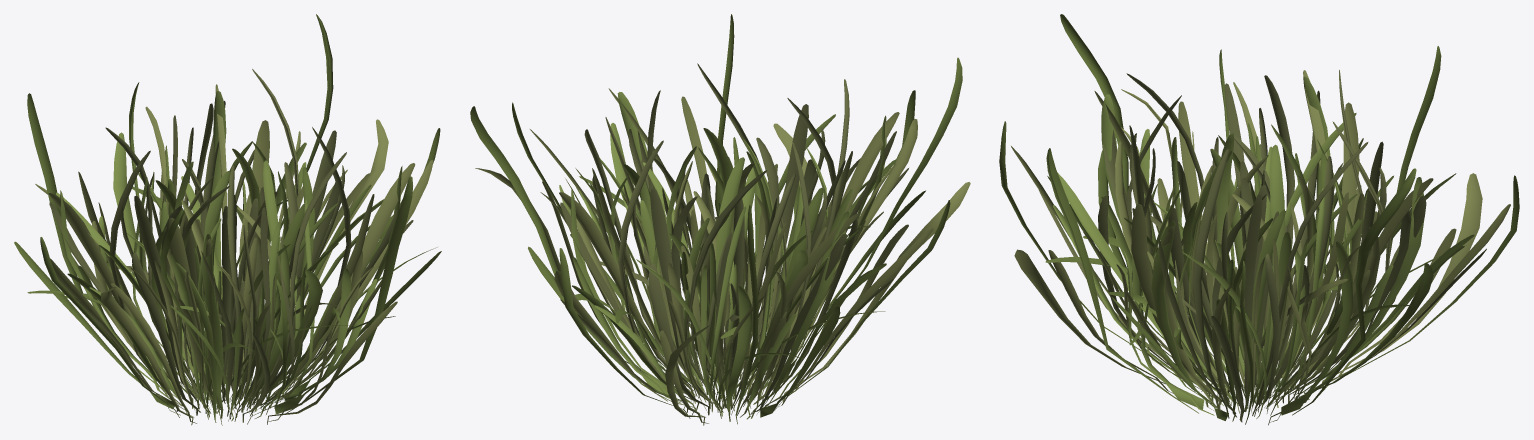
Rendered from GrasOnly.gltf.
3 renders of one model, left to right at view 1: azimuth 30°, elevation 25°; view 2: azimuth 150°, elevation 25°; view 3: azimuth 270°, elevation 25°, orthographic. The views are drawn at different scales.
Parts seen in each view (by area): view 1: Plane6314.1014; view 2: Plane6314.1014; view 3: Plane6314.1014.
Part boxes in pixels (<box>): Plane6314.1014: <box>14,14,441,425</box>; Plane6314.1014: <box>470,14,970,425</box>; Plane6314.1014: <box>999,14,1519,425</box>.
Bounding box in the file's own units: 0.5244 × 0.3625 × 0.5396.
